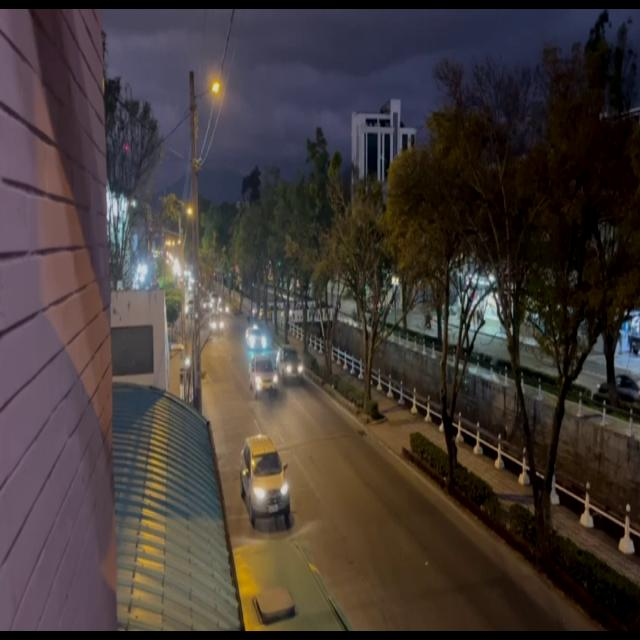SUV: (239, 442, 286, 526), (278, 348, 302, 382)
